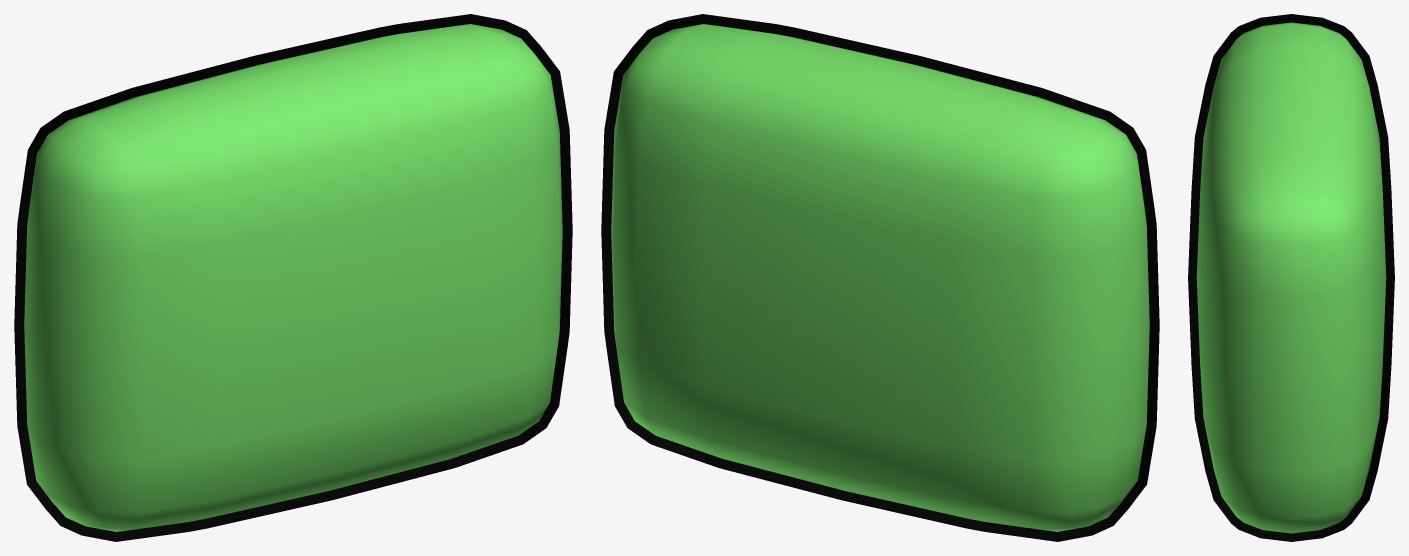
The model's file is DDuck.fbx.
3 renders of one model, left to right at view 1: azimuth 30°, elevation 25°; view 2: azimuth 150°, elevation 25°; view 3: azimuth 270°, elevation 25°, orthographic. The views are drawn at different scales.
Parts seen in each view (by area): view 1: DDuck; view 2: DDuck; view 3: DDuck.
Boxes of the visible parts, <box> form: DDuck: <box>14,14,572,541</box>; DDuck: <box>601,14,1159,541</box>; DDuck: <box>1188,14,1394,541</box>.
Size of the model in its own units: 30.47 by 23.76 by 11.88.
